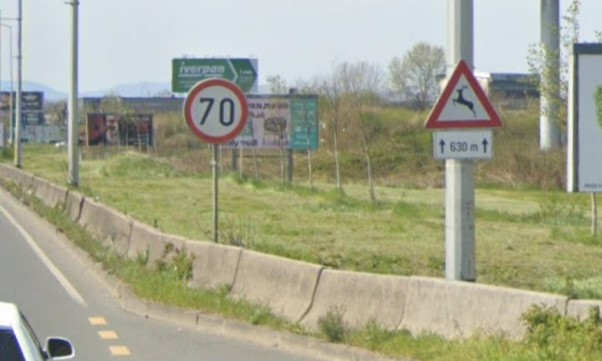Divljač na cesti: (424, 59, 503, 129)
Ograničenje brzine 70: (183, 77, 249, 144)
